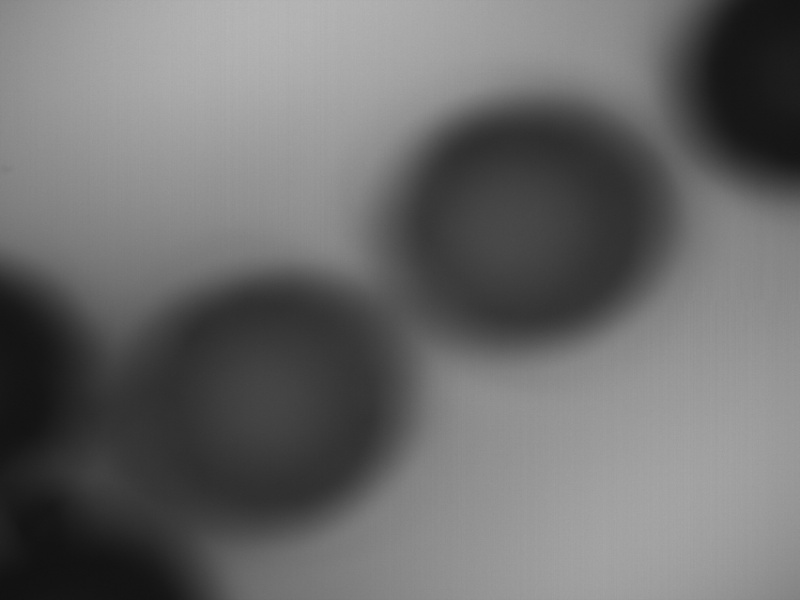bead: (148, 283, 386, 522), (414, 112, 647, 337), (1, 492, 219, 599), (1, 267, 87, 479), (702, 1, 799, 180)
